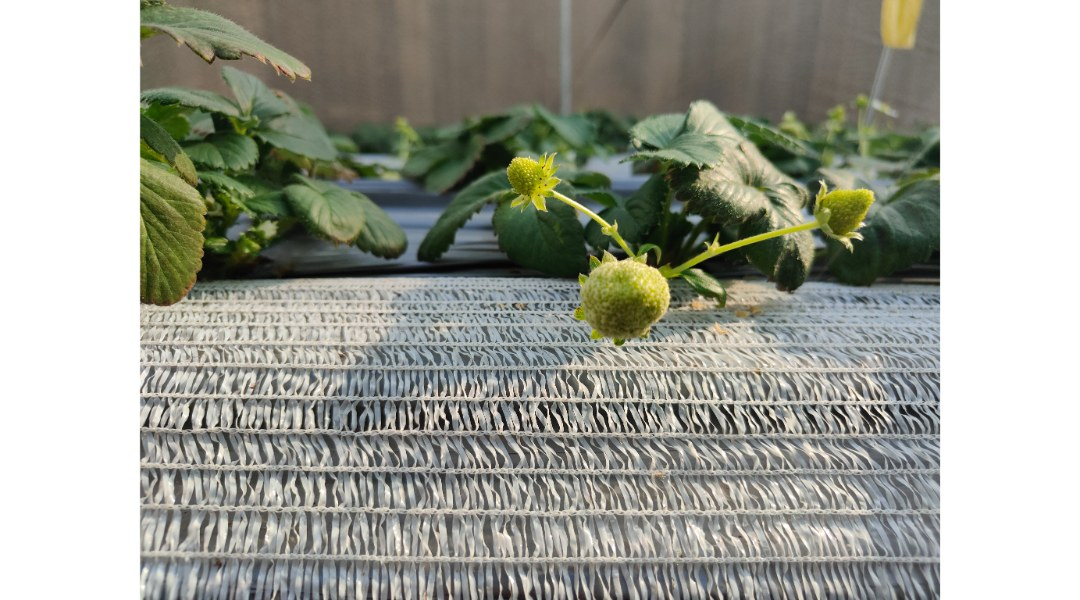berry: (566, 244, 678, 348), (798, 170, 874, 255), (498, 144, 562, 216)
strain: (693, 213, 820, 267), (558, 190, 638, 260)
